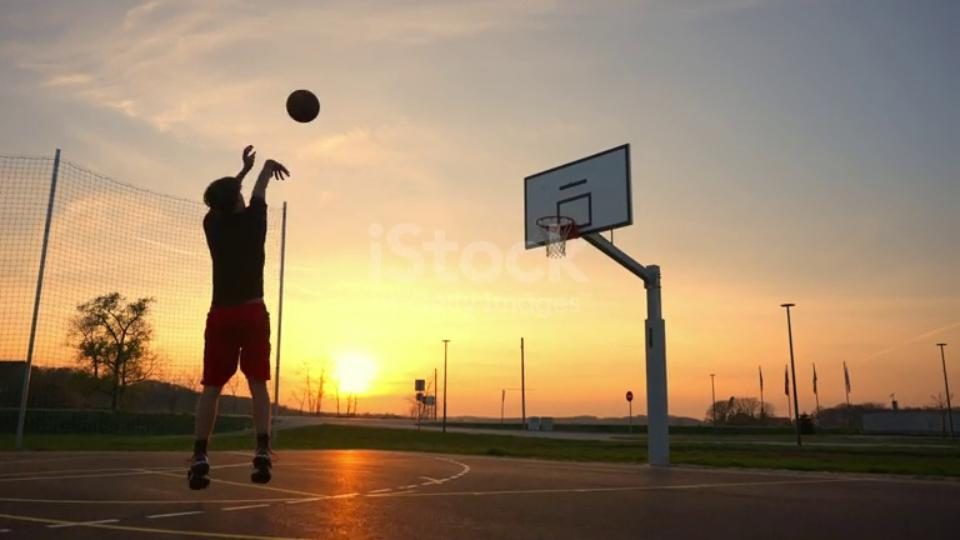hoop: (533, 211, 583, 235)
